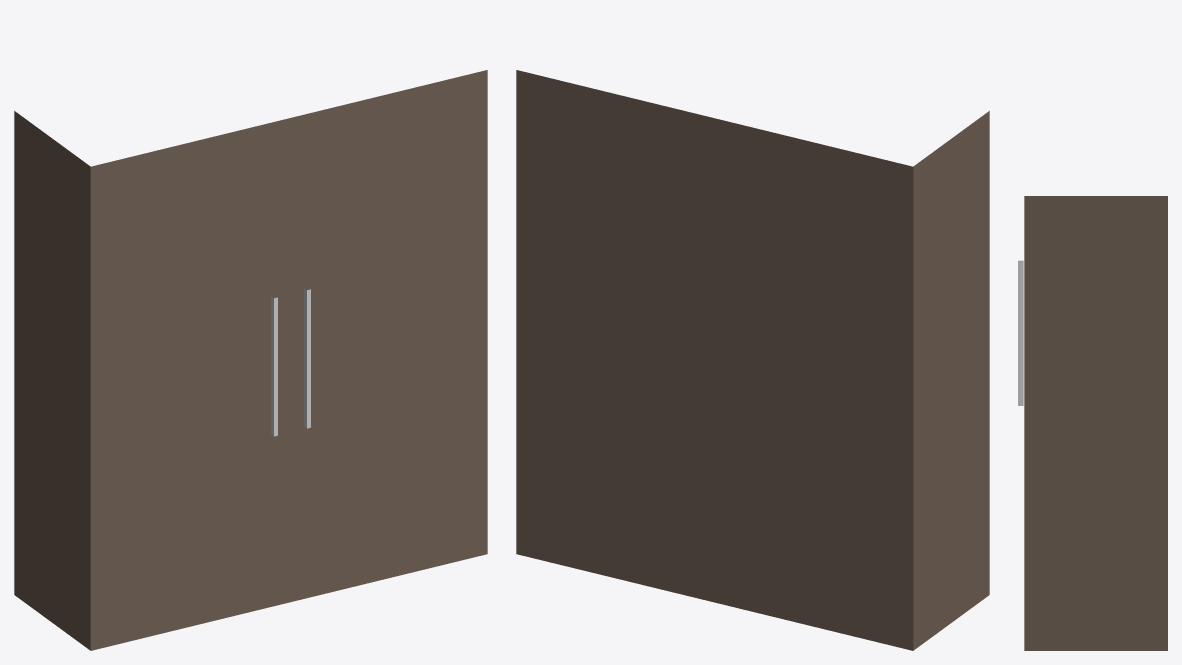
The model's file is wardrobe.glb.
3 views of the same model, side by side, from view 1: azimuth 30°, elevation 25°; view 2: azimuth 150°, elevation 25°; view 3: azimuth 270°, elevation 25° (orthographic). The views are drawn at different scales.
Visible parts, largest first — view 1: RootNode; view 2: RootNode; view 3: RootNode.
Boxes of the visible parts, <box> form: RootNode: <box>14,70,487,650</box>; RootNode: <box>516,70,989,650</box>; RootNode: <box>1018,196,1167,650</box>.
Bounding box in the file's own units: 6 × 7 × 2.09.
